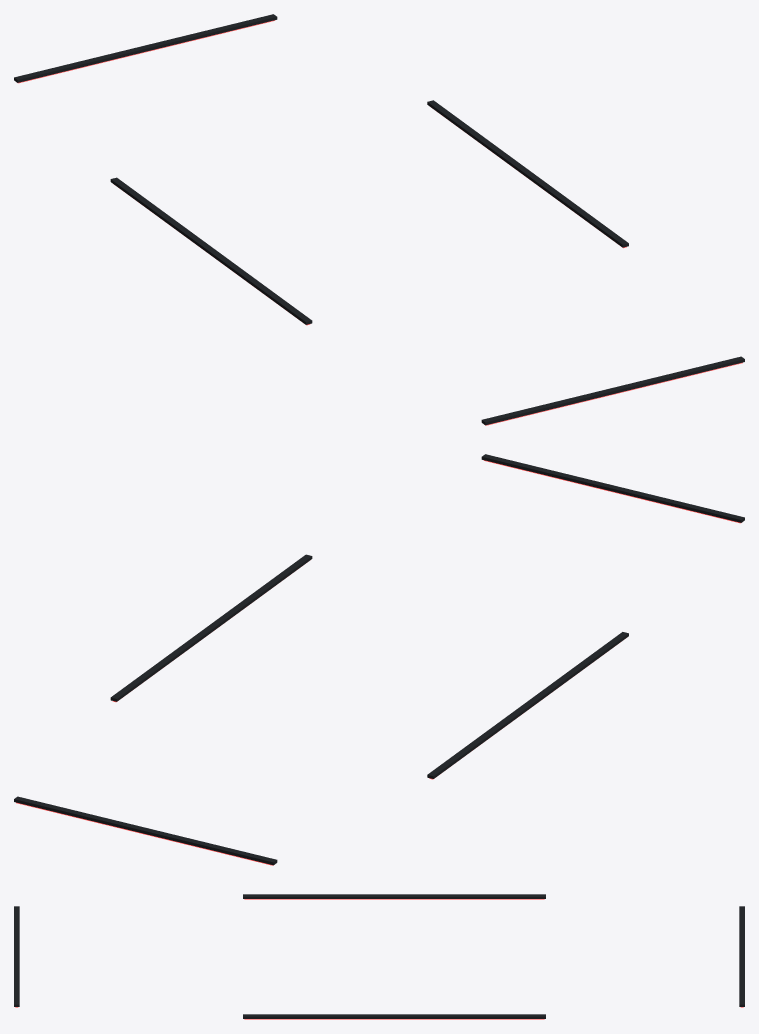
File: hana_roadster.glb
3 views of the same model, one above another, from view 1: azimuth 30°, elevation 25°; view 2: azimuth 150°, elevation 25°; view 3: azimuth 270°, elevation 25° (orthographic). The views are drawn at different scales.
Parts seen in each view (by area): view 1: model; view 2: model; view 3: model.
Part boxes in pixels (bbox=[...]): model: bbox=[14, 14, 744, 425]; model: bbox=[14, 454, 744, 865]; model: bbox=[14, 894, 744, 1019].
Size of the model in its own units: 1.43 by 0.0181 by 3.61.
2 materials, 1 textured.
